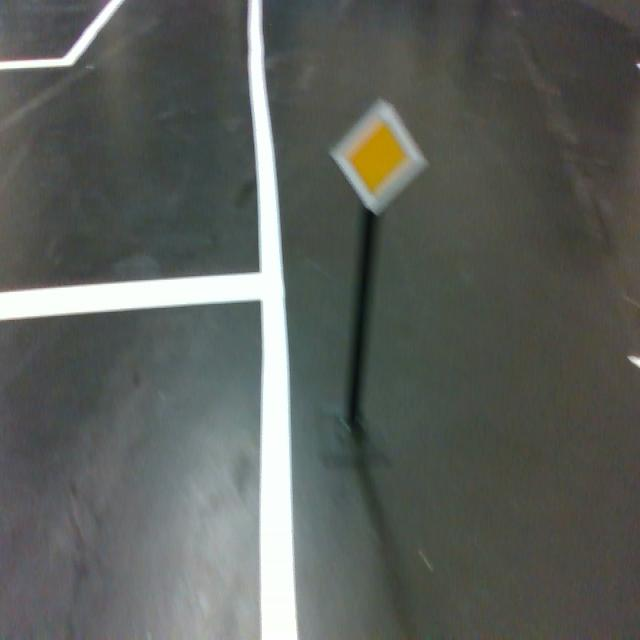priority-sign: (327, 95, 430, 217)
